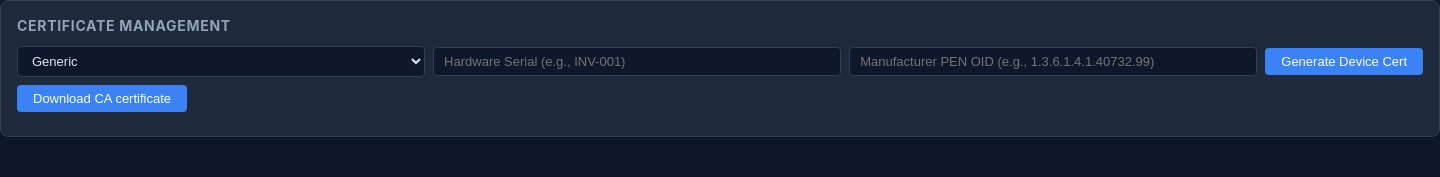
Test: CertPanel › reports a device cert failure rather than leaving the result blank
Expected: the dropdown with id "deviceType" is enabled, x1=17 y1=46 x2=425 y2=77
Click the button "Generate Device Cert".
click(1344, 62)  # box x1=1265 y1=48 x2=1423 y2=75
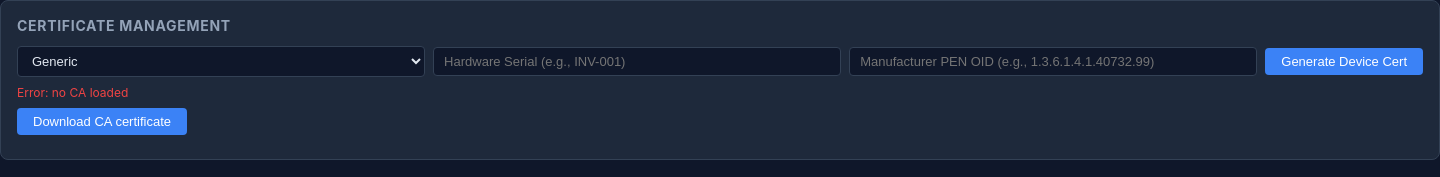
Expected: the text with id "certResult" reads "Error: no CA loaded", x1=17 y1=85 x2=128 y2=100
